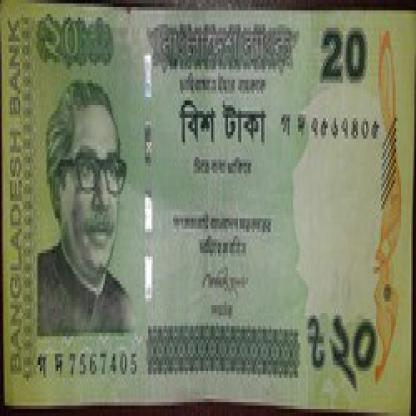Twenty: (170, 90, 273, 160), (303, 298, 379, 392), (34, 14, 122, 83), (306, 17, 379, 100)
